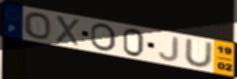0: (121, 28, 146, 58)
J: (158, 36, 181, 63)
O: (23, 11, 53, 41), (89, 22, 118, 53)
U: (184, 38, 215, 70)
X: (54, 14, 81, 48)
